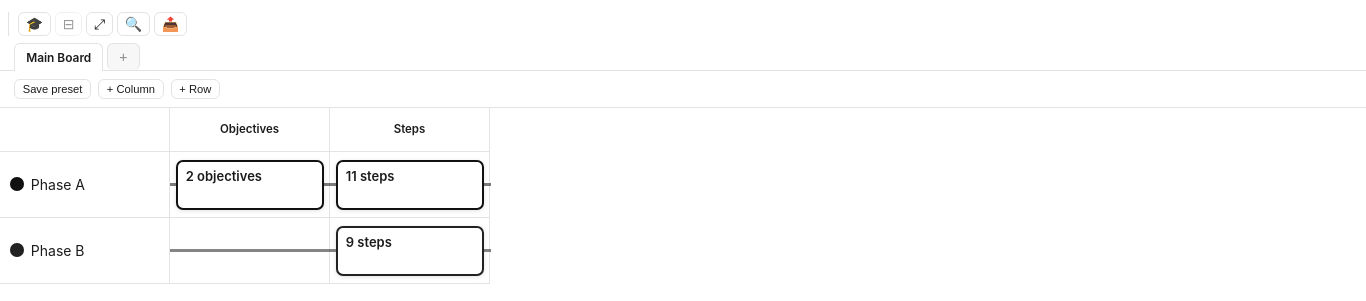
Test: revision mode on the board › masks every card when turned on
Expected: the text "2 objectives" is shown, [186, 168, 262, 184]
Click the button titled "Revision mode — hide card titles until clicked" at (35, 24), box [18, 12, 51, 36]
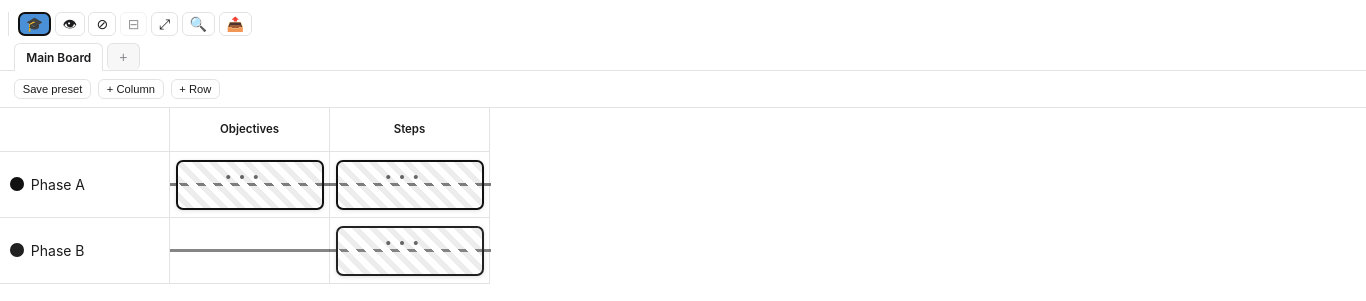
Expected: the text "2 objectives" is gone
